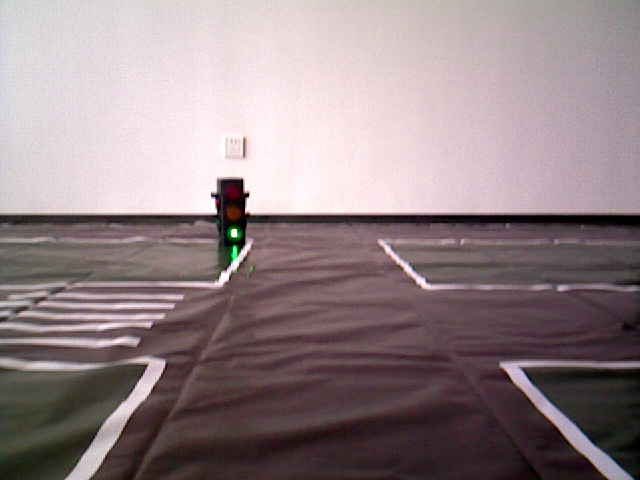green: (218, 182, 246, 246)
